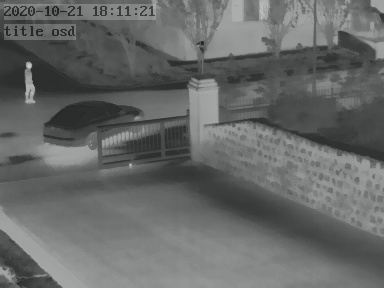person: (23, 60, 38, 103)
vehicle: (39, 100, 144, 149)
